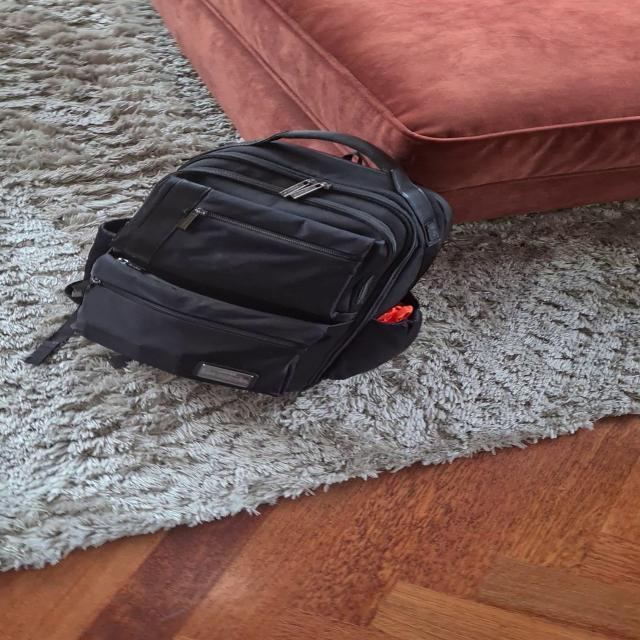backpack: (55, 116, 465, 398)
